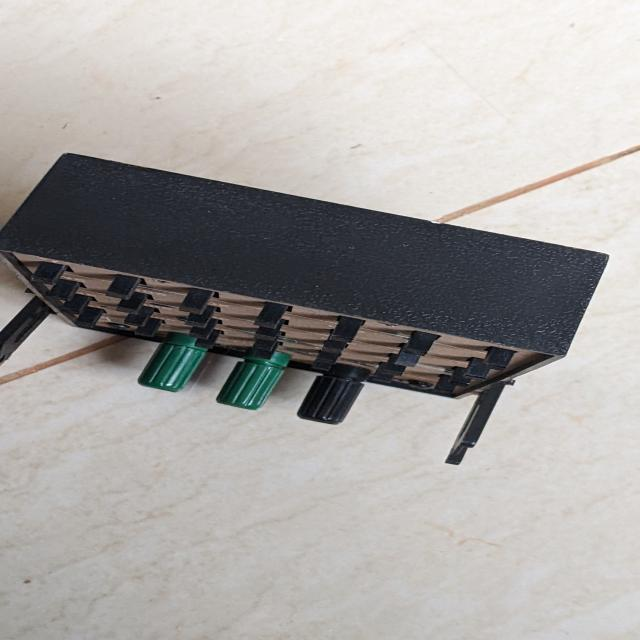Resistor Substitution Box: (0, 127, 626, 476)
